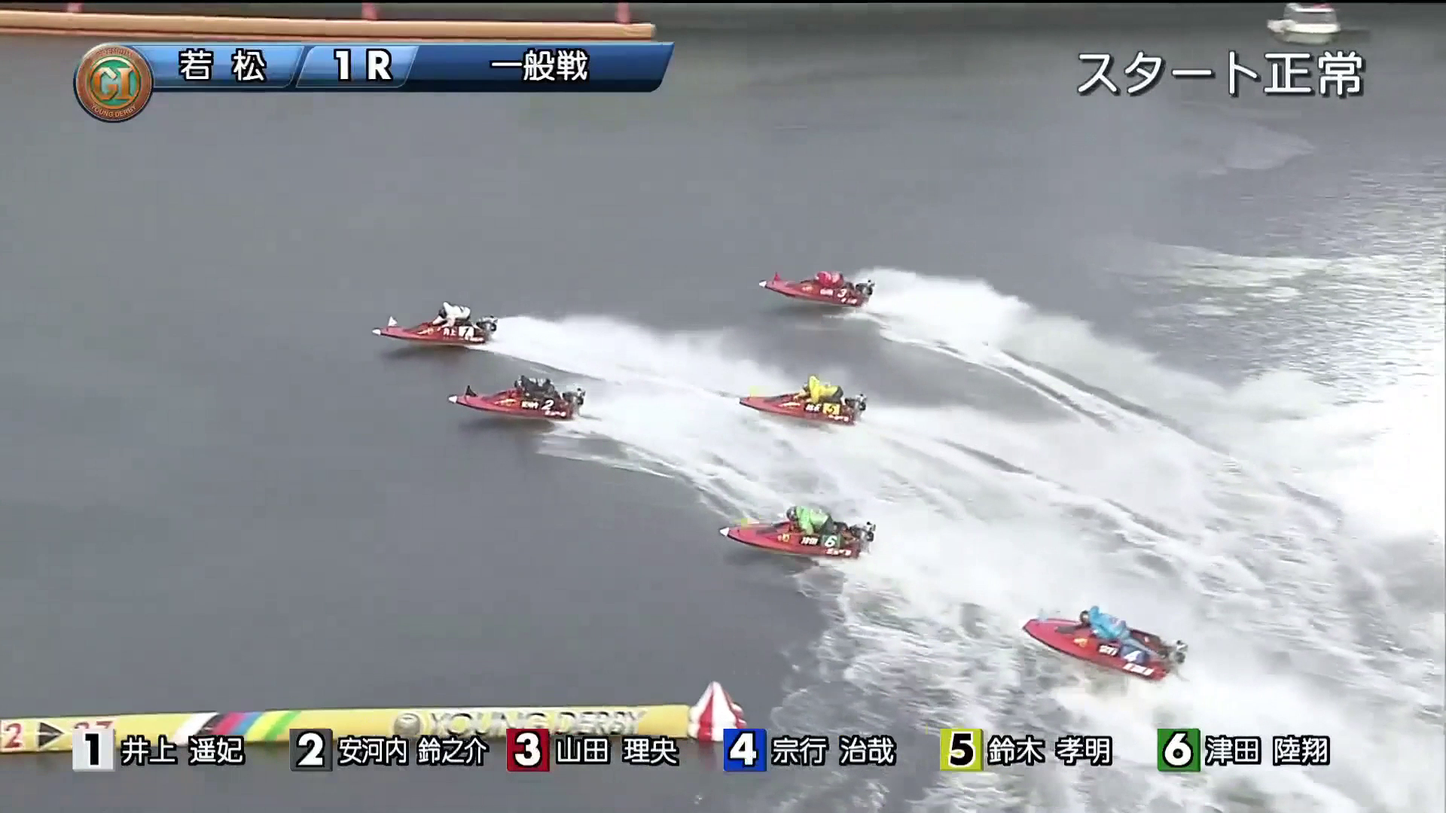１号艇: (378, 273, 448, 326)
２号艇: (425, 370, 554, 431)
３号艇: (777, 252, 874, 311)
４号艇: (744, 492, 878, 558)
５号艇: (1049, 615, 1173, 670)
６号艇: (741, 357, 841, 437)
